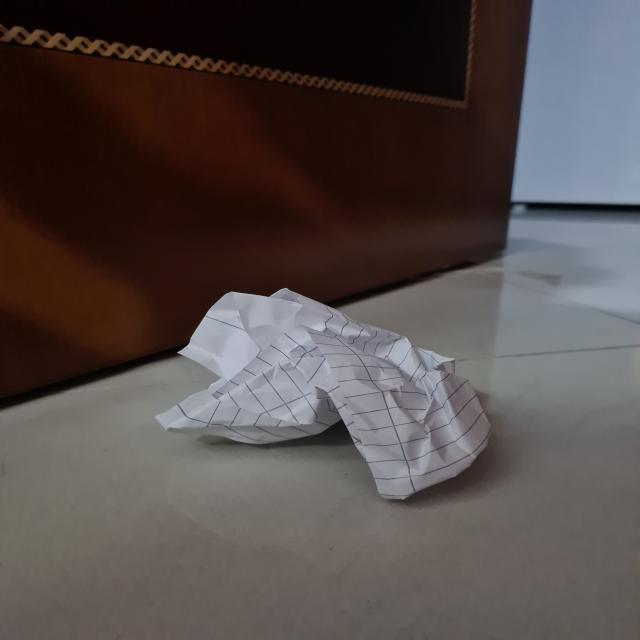Paper: (155, 295, 492, 499)
